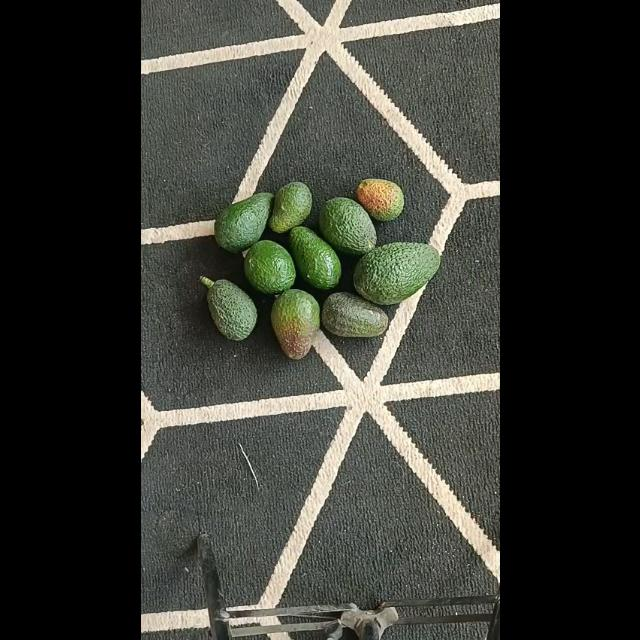Primera: (352, 241, 440, 303)
Segunda: (213, 190, 273, 252), (270, 288, 320, 358), (318, 197, 376, 256), (288, 227, 340, 290), (242, 240, 296, 294)
Tercera: (200, 277, 256, 339), (320, 291, 388, 337), (267, 182, 311, 234), (355, 178, 403, 222)
